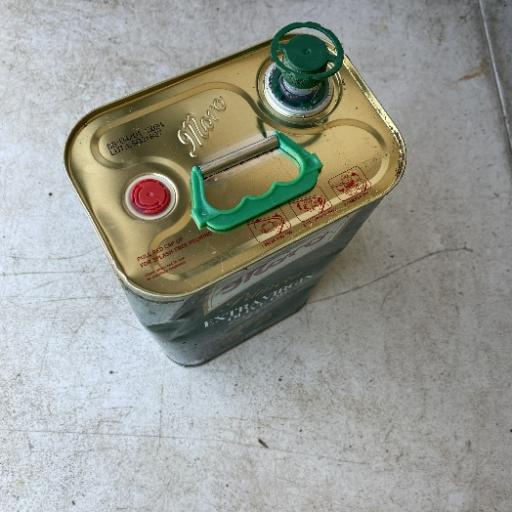Metal: (62, 20, 408, 368)
